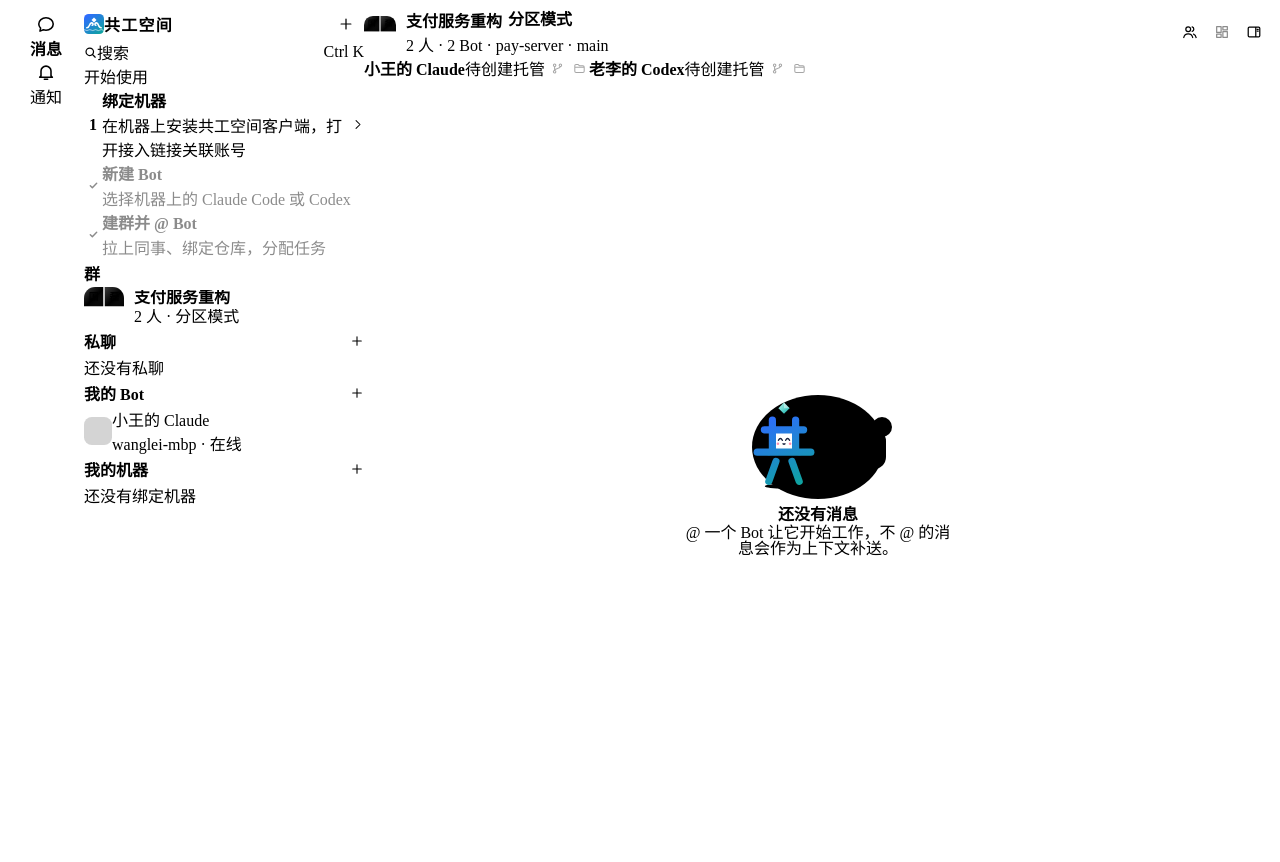
group settings inspector › locks management rows for plain members and hides dissolving
What coordinates should you click on to do the following:
click the button named "群设置"
I would click on:
 (1254, 32)
Its box is [1238,18,1270,46].
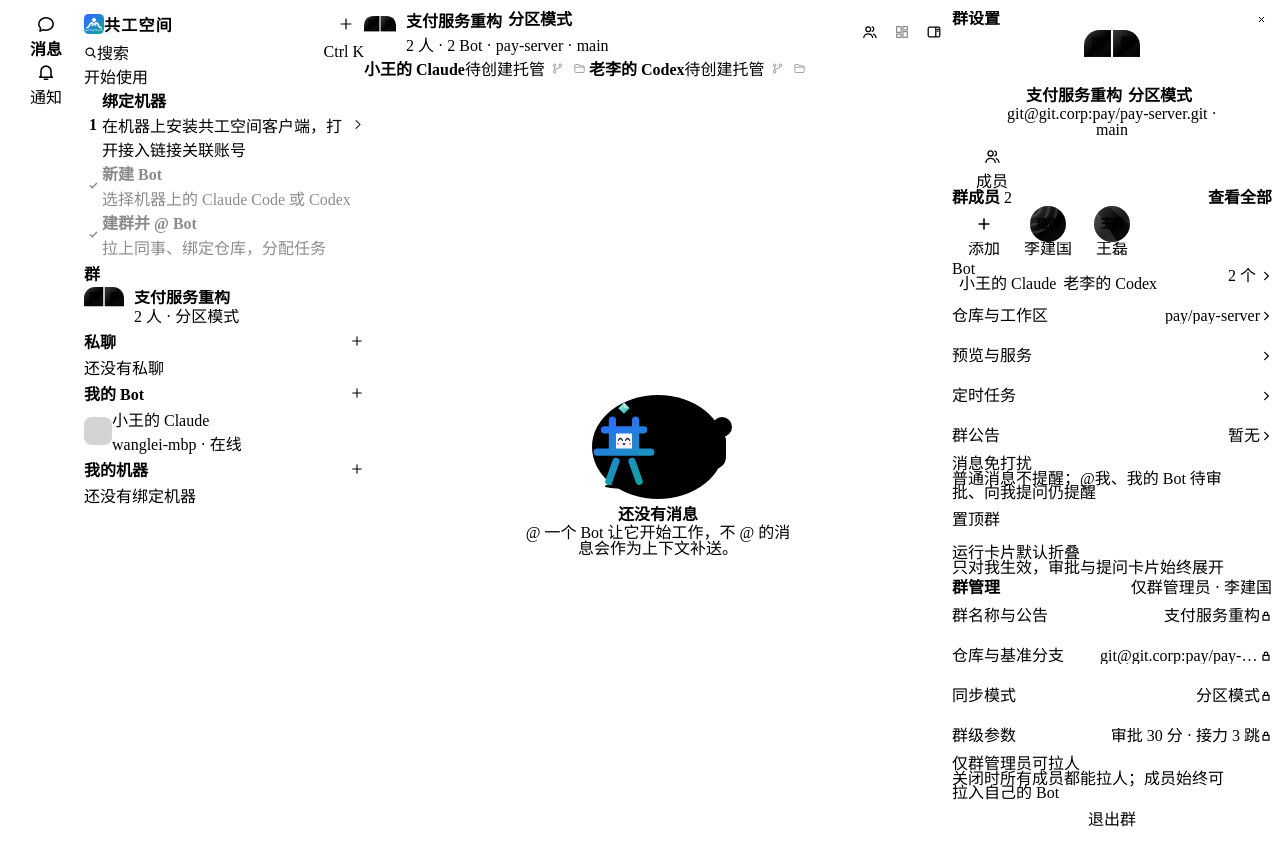
Expected: the text "仅群管理员 · 李建国" is shown, [1131,580,1272,596]
Expected: the button "群名称与公告 支付服务重构" is disabled, [952,596,1272,636]
Expected: the button "仓库与基准分支 git@git.corp:pay/pay-server.git" is disabled, [952,636,1272,676]
